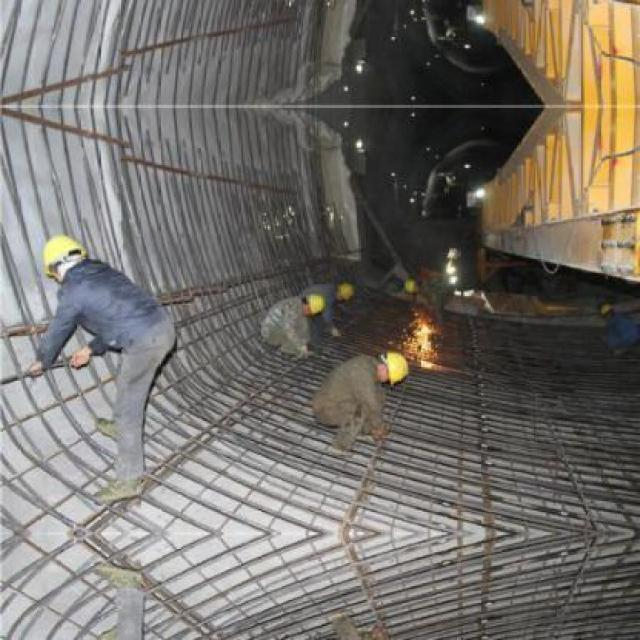hat: (43, 233, 84, 280), (382, 352, 413, 394), (306, 293, 328, 317), (335, 276, 356, 301)
